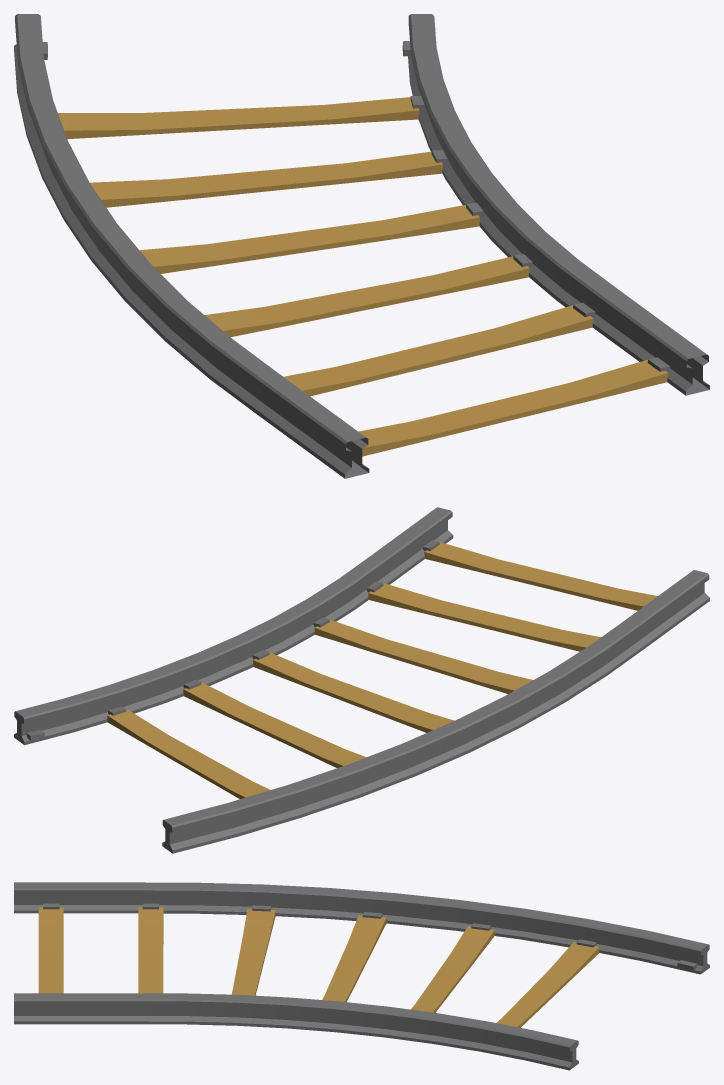
Rendered from SM_TrainTrack15Angle.fbx.
The picture shows the model from 3 angles, top to bottom: view 1: azimuth 30°, elevation 25°; view 2: azimuth 150°, elevation 25°; view 3: azimuth 270°, elevation 25°; orthographic projection. The views are drawn at different scales.
Parts seen in each view (by area): view 1: SM_TrainTrack15Angle; view 2: SM_TrainTrack15Angle; view 3: SM_TrainTrack15Angle.
Boxes of the visible parts, x1,y1,x2,y2 form: SM_TrainTrack15Angle: (14, 14, 709, 478); SM_TrainTrack15Angle: (14, 507, 709, 853); SM_TrainTrack15Angle: (14, 882, 709, 1070).
Size of the model in its own units: 389 by 26.51 by 695.
